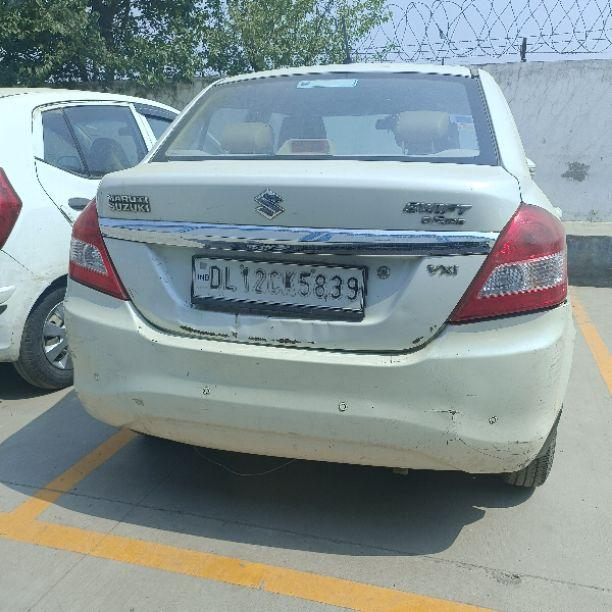license_plate: (189, 252, 368, 319)
